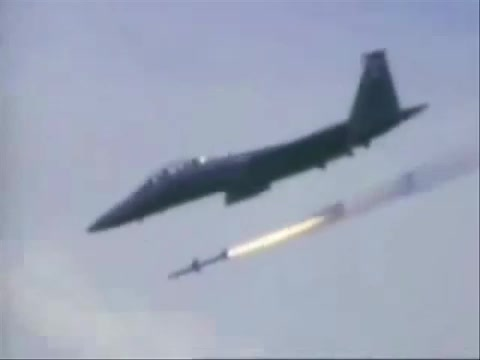aeroplane: (88, 48, 432, 236)
